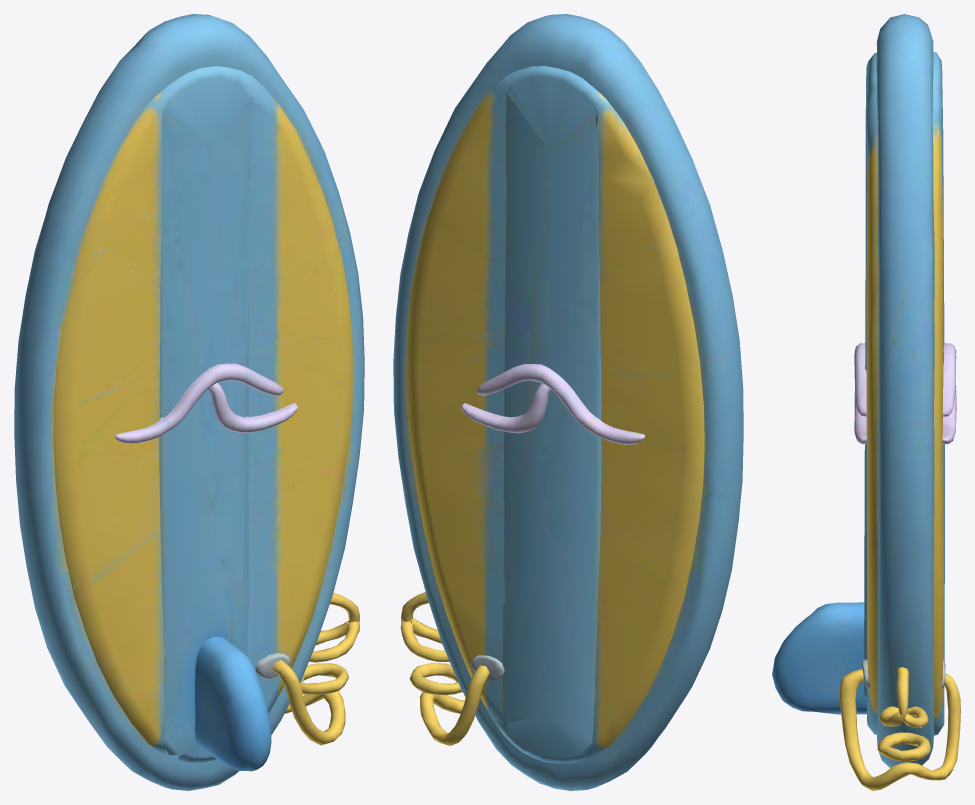
The model's file is surfboard-b.glb.
3 renders of one model, left to right at view 1: azimuth 30°, elevation 25°; view 2: azimuth 150°, elevation 25°; view 3: azimuth 270°, elevation 25°, orthographic. The views are drawn at different scales.
Visible parts, largest first — view 1: geometry_0; view 2: geometry_0; view 3: geometry_0.
Boxes of the visible parts, left/top/right/bottom form: geometry_0: left=14, top=14, right=364, bottom=790; geometry_0: left=393, top=14, right=743, bottom=790; geometry_0: left=772, top=14, right=960, bottom=790.
Bounding box in the file's own units: 0.4633 × 1 × 0.2328.
1 material, 1 textured.
